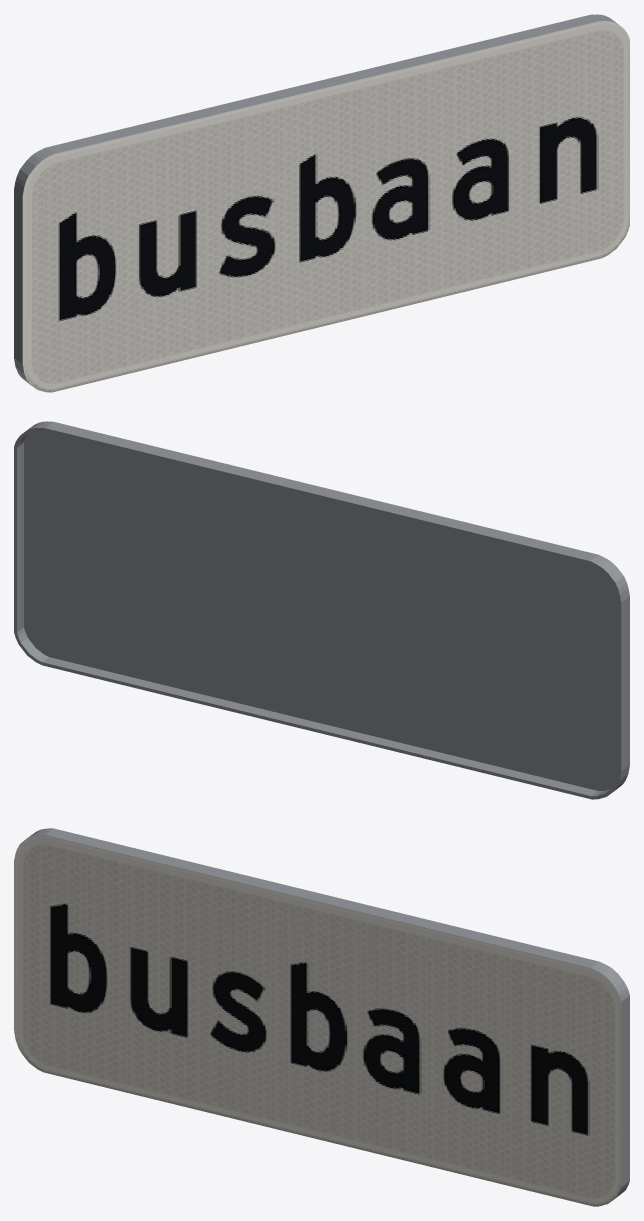
3 views of the same model, one above another, from view 1: azimuth 30°, elevation 25°; view 2: azimuth 150°, elevation 25°; view 3: azimuth 330°, elevation 25° (orthographic).
Parts seen in each view (by area): view 1: cat_f0ab5cc83dc64b0c; view 2: cat_f0ab5cc83dc64b0c; view 3: cat_f0ab5cc83dc64b0c.
Boxes of the visible parts, x1,y1,x2,y2 form: cat_f0ab5cc83dc64b0c: (14, 14, 629, 392); cat_f0ab5cc83dc64b0c: (14, 421, 629, 799); cat_f0ab5cc83dc64b0c: (14, 828, 629, 1206).
Bounding box in the file's own units: 0.6 × 0.015 × 0.2246.
2 materials, 1 textured.
